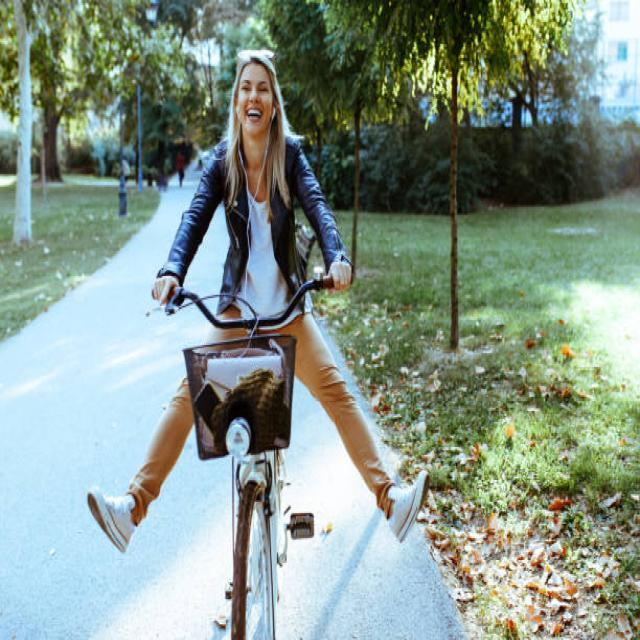bicycle: (88, 51, 428, 638)
